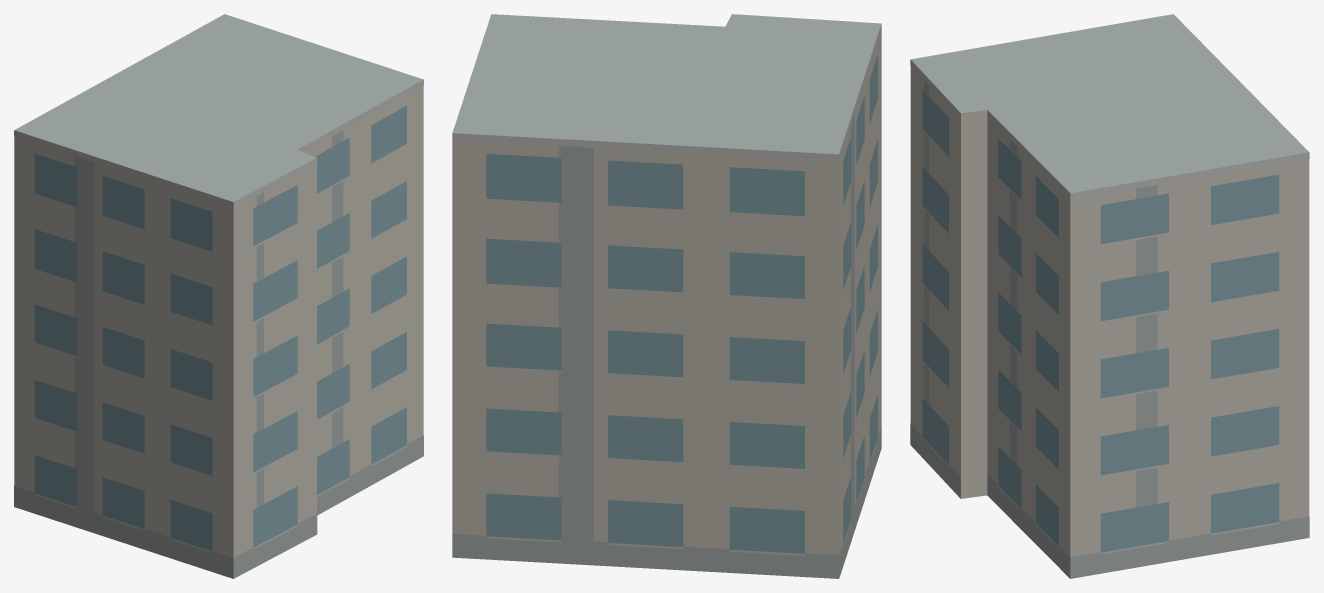
Rendered from survey-upis-32860461.glb.
3 renders of one model, left to right at view 1: azimuth 30°, elevation 25°; view 2: azimuth 150°, elevation 25°; view 3: azimuth 270°, elevation 25°, orthographic. The views are drawn at different scales.
Visible parts, largest first — view 1: survey-upis-32860461.tmp; view 2: survey-upis-32860461.tmp; view 3: survey-upis-32860461.tmp.
Part boxes in pixels (left/top/right/bottom): survey-upis-32860461.tmp: left=14, top=14, right=423, bottom=578; survey-upis-32860461.tmp: left=452, top=14, right=881, bottom=578; survey-upis-32860461.tmp: left=910, top=14, right=1309, bottom=578.
Bounding box in the file's own units: 14.77 × 14.8 × 13.89.
